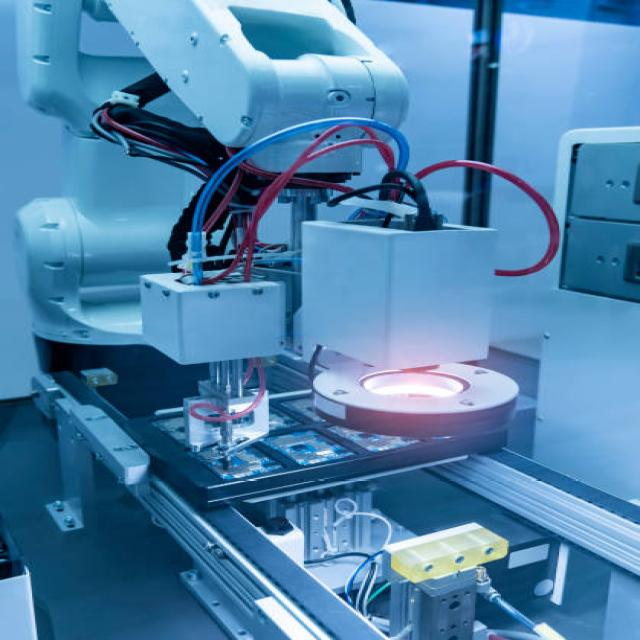Robotic-arm: (0, 0, 444, 370)
